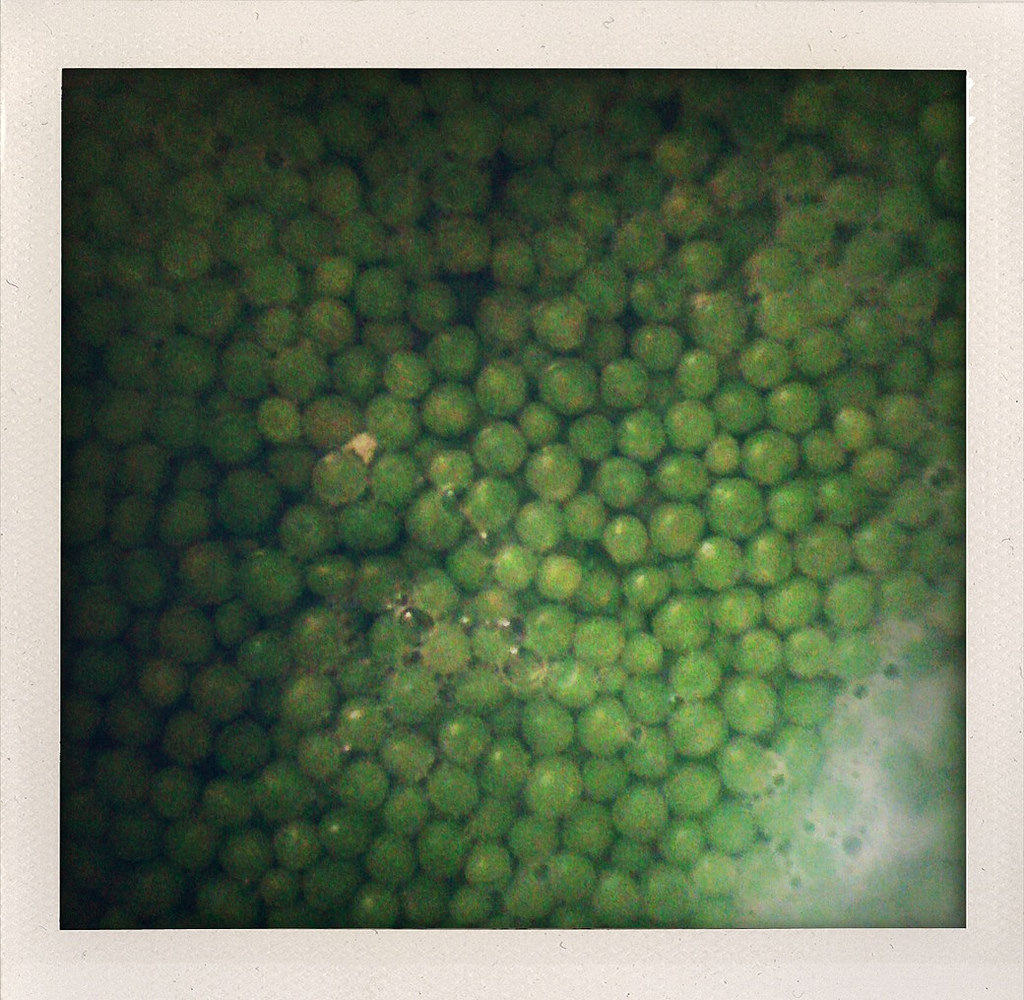boiled peas: (97, 98, 924, 916)
